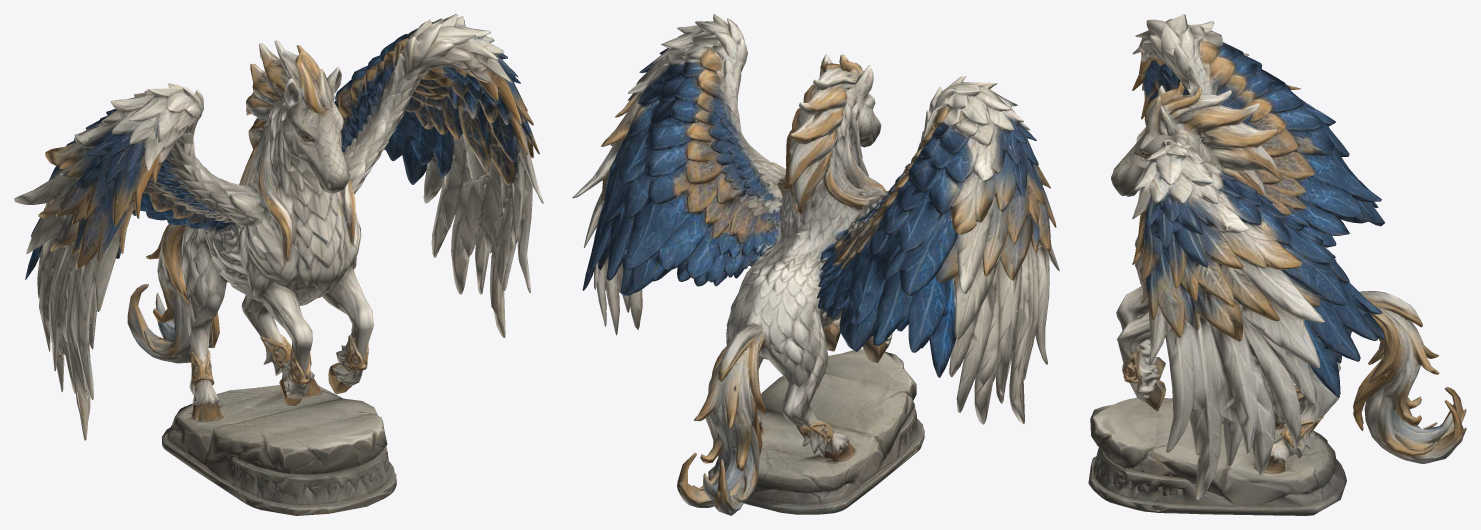
The model's file is uni-web.glb.
3 renders of one model, left to right at view 1: azimuth 30°, elevation 25°; view 2: azimuth 150°, elevation 25°; view 3: azimuth 270°, elevation 25°, orthographic. The views are drawn at different scales.
Size of the model in its own units: 1.9 by 1.71 by 1.46.
1 material, 1 textured.
